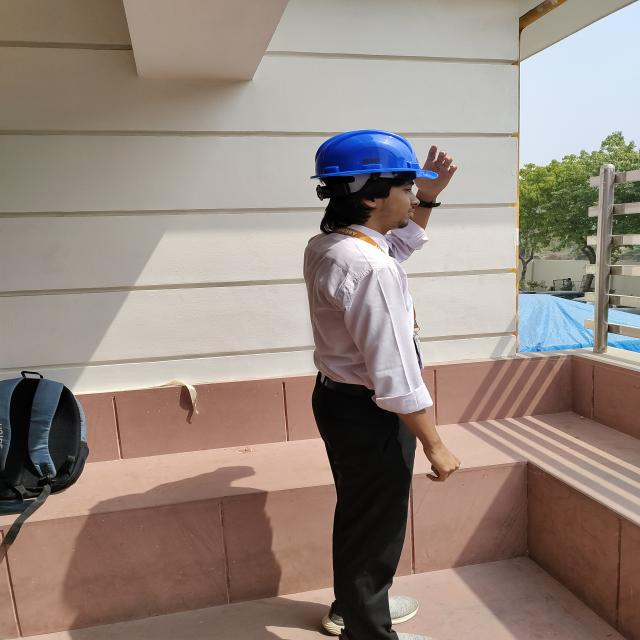safe: (312, 129, 454, 639)
